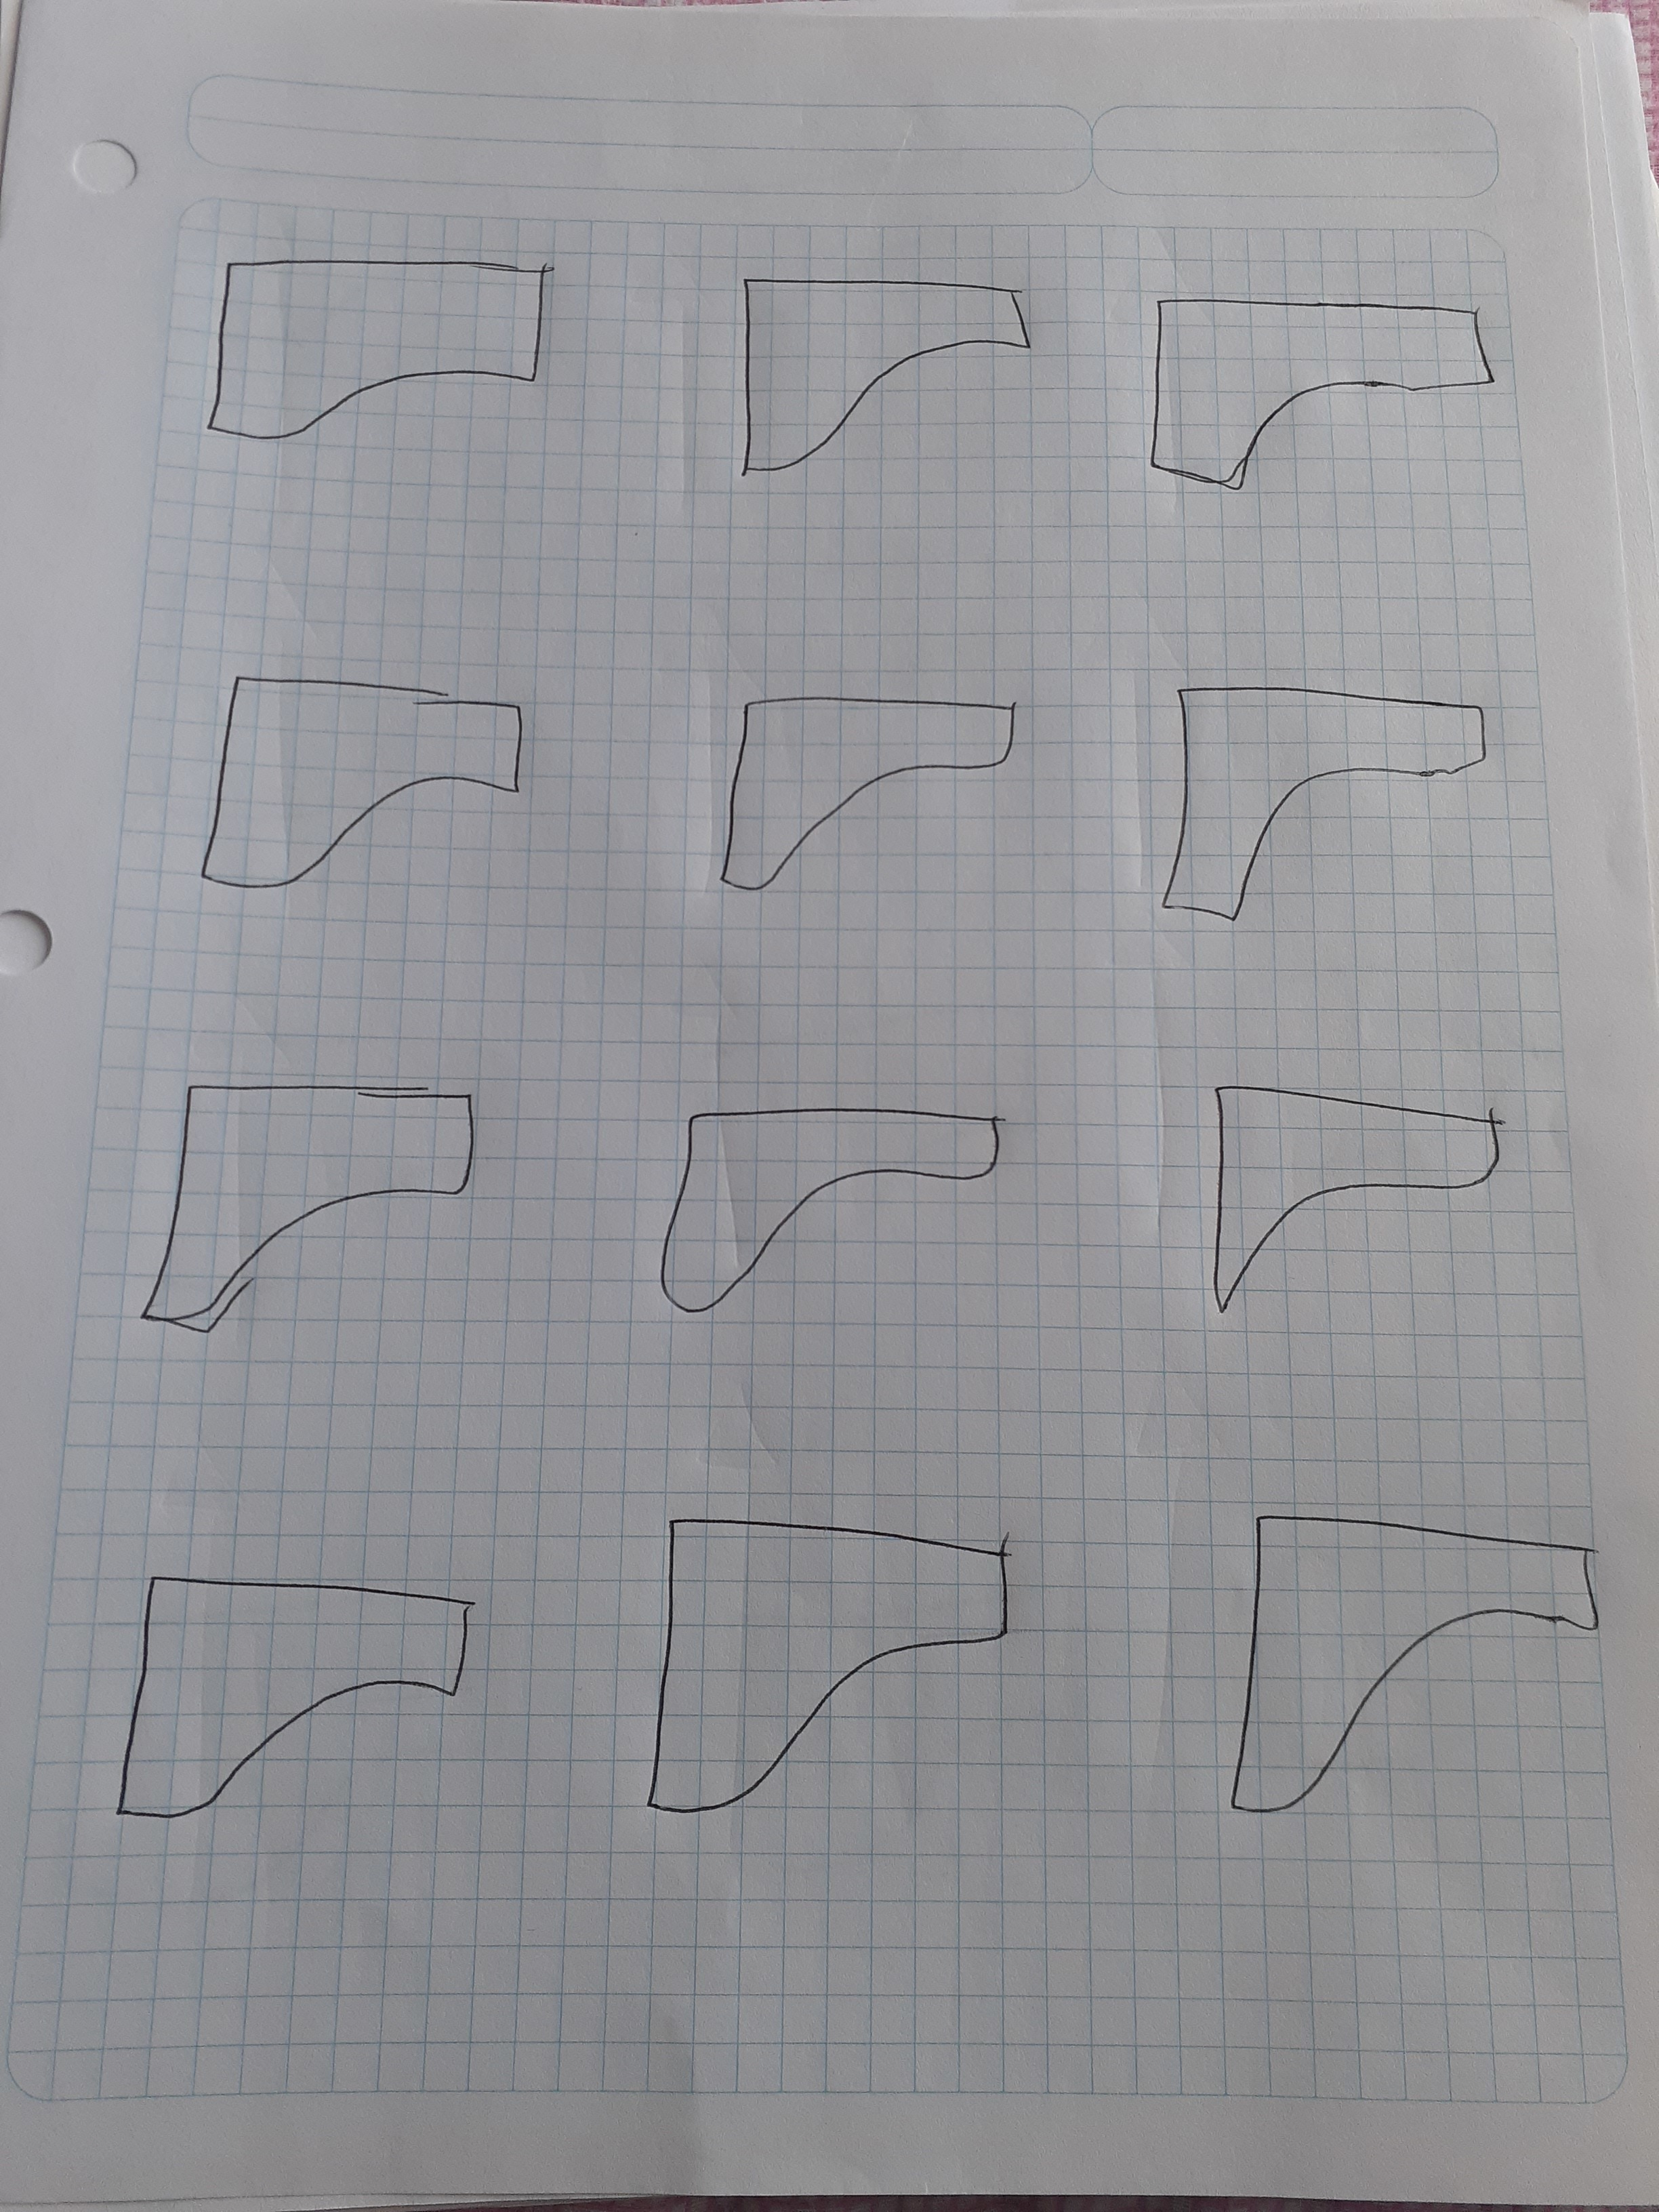print: (1204, 1494, 1647, 1855), (634, 1496, 1044, 1874), (124, 1052, 516, 1379), (110, 1536, 495, 1848), (641, 1073, 1066, 1338), (192, 631, 568, 927), (1147, 658, 1527, 944), (1127, 254, 1518, 517), (708, 634, 1042, 935), (195, 235, 601, 463), (1192, 1062, 1534, 1324), (708, 251, 1058, 505)
